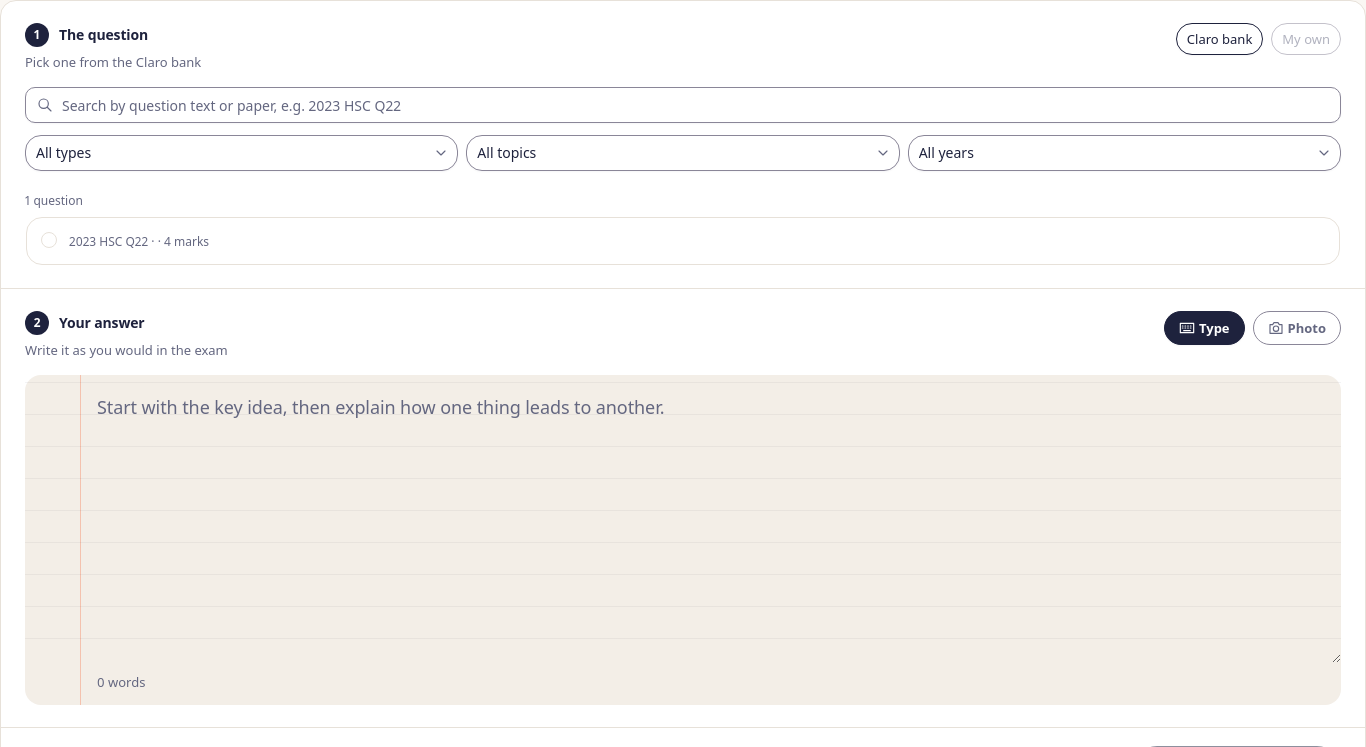
Test case: toggles Photo without uploading or transcribing
Click the button "Photo".
click(1297, 328)  # box [1252,311,1341,345]
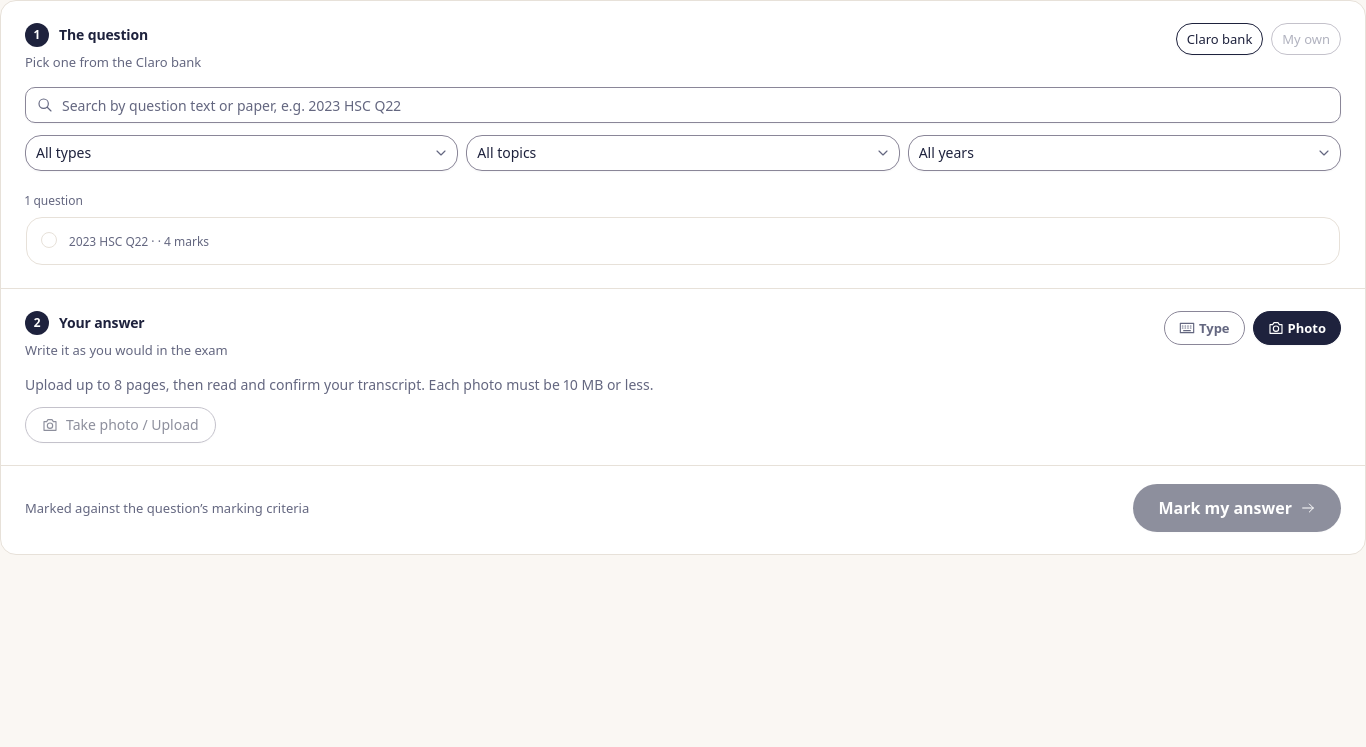
Expected: the file field labelled "Take photo / Upload" is disabled, [25,407,216,443]
Expected: the text "Upload up to 8 pages" is shown, [25,375,654,394]
